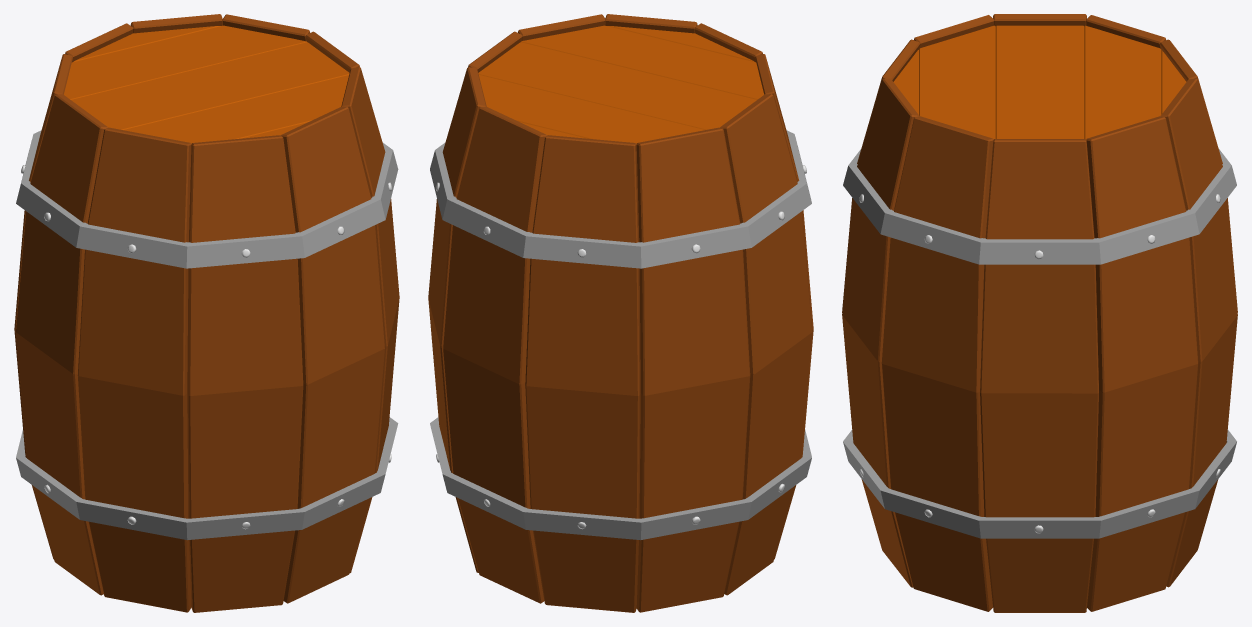
File: Barrel.fbx
3 views of the same model, side by side, from view 1: azimuth 30°, elevation 25°; view 2: azimuth 150°, elevation 25°; view 3: azimuth 270°, elevation 25° (orthographic).
Visible parts, largest first — view 1: Barrel_LOD0; view 2: Barrel_LOD0; view 3: Barrel_LOD0.
Boxes of the visible parts, left/top/right/bottom form: Barrel_LOD0: left=14, top=14, right=399, bottom=612; Barrel_LOD0: left=428, top=14, right=813, bottom=612; Barrel_LOD0: left=842, top=14, right=1237, bottom=612.
Size of what is drawn, in the model's own units: 302 by 416 by 316.
